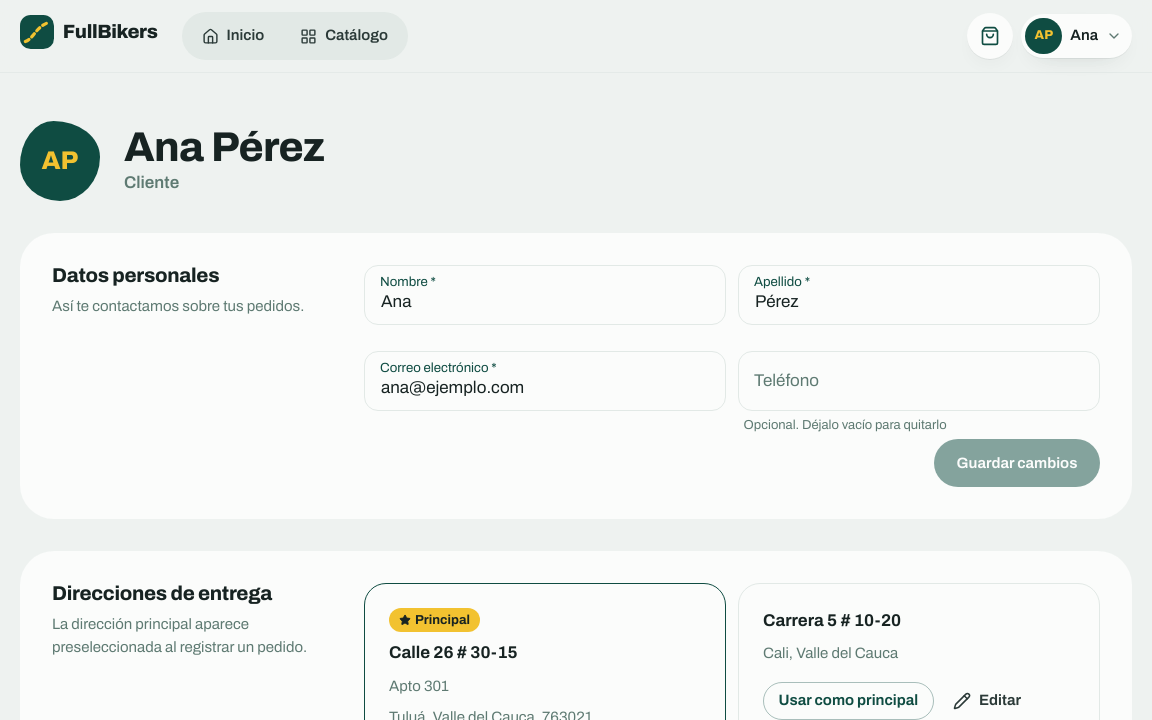
Test: cuenta › envía solo los campos modificados del perfil
The width and height of the screenshot is (1152, 720).
In the field labelled "Teléfono": (919, 381) [738, 351, 1100, 411], type "3001234567"
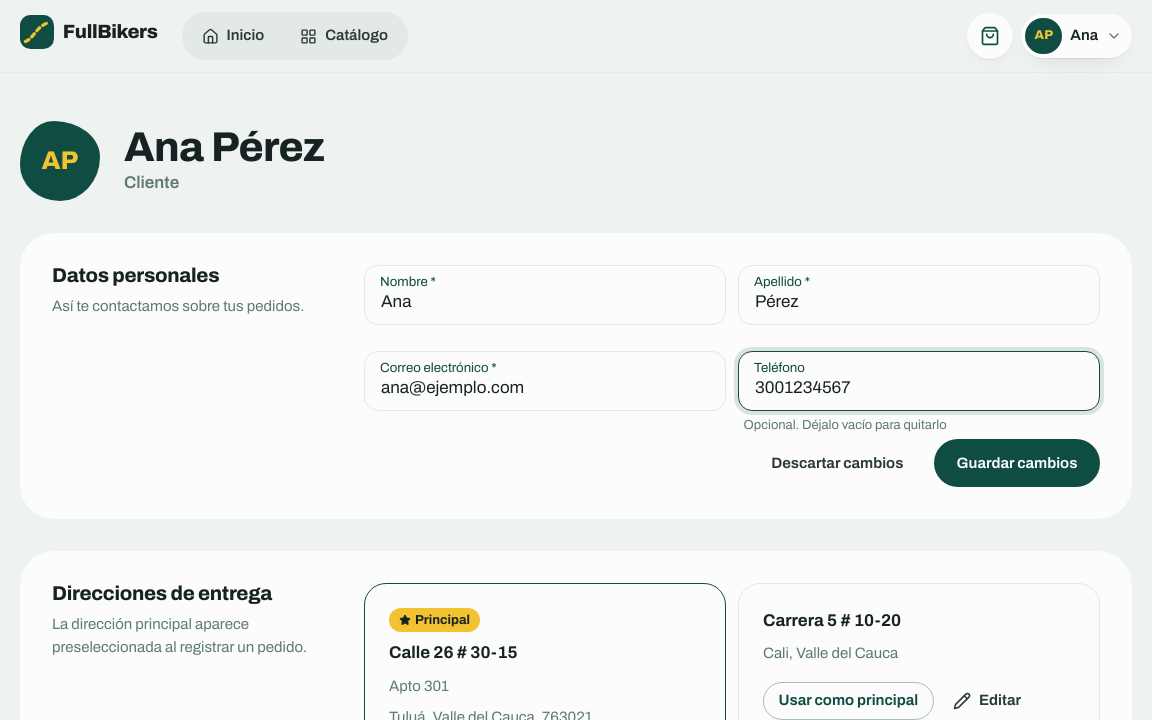
Click the button "Guardar cambios": (1017, 463) [934, 439, 1100, 487]
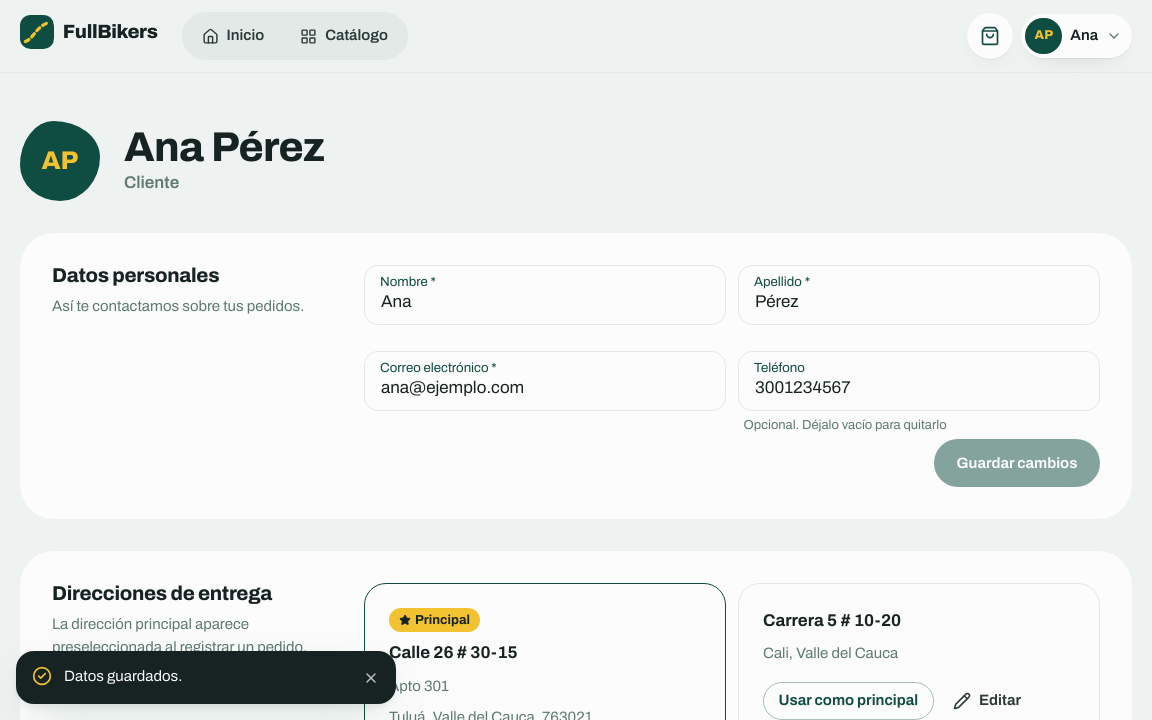
Expected: the text "Datos guardados." is shown, [64, 668, 182, 684]
